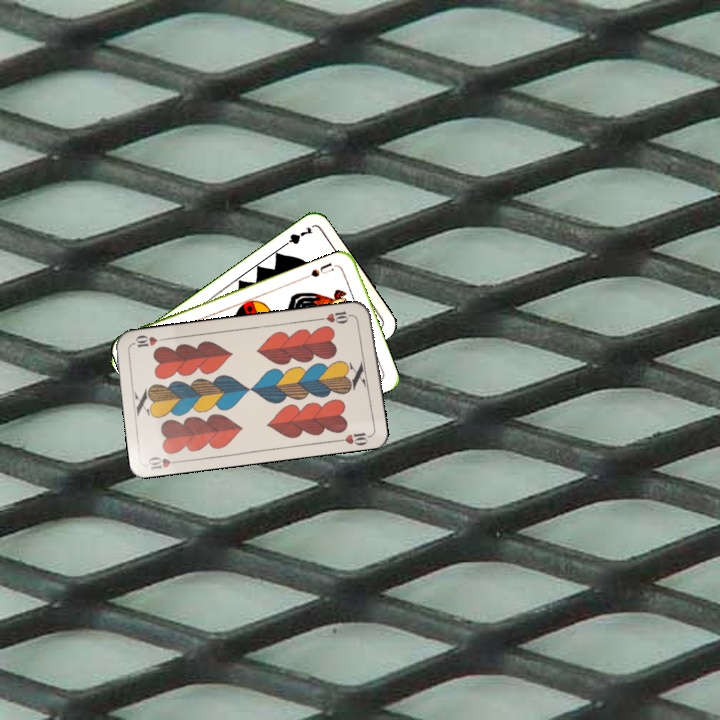G7: (278, 222, 315, 250)
H10: (144, 452, 185, 472), (316, 307, 356, 326)
SU: (307, 259, 336, 280)
